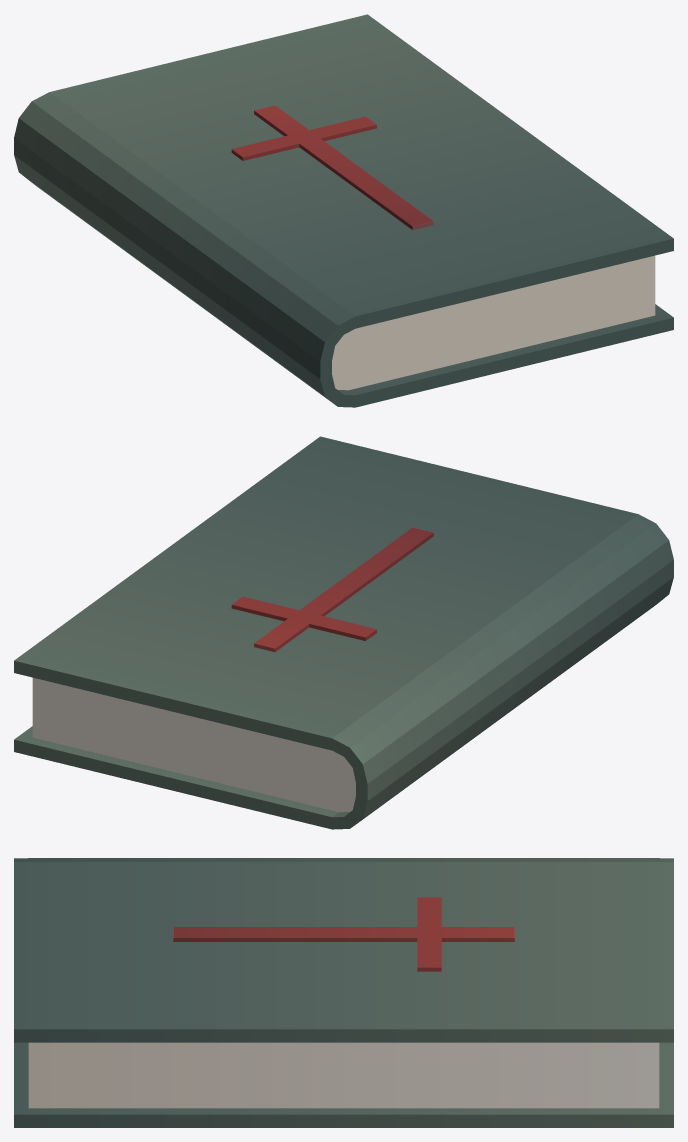
The model's file is SM_Book_01.fbx.
The picture shows the model from 3 angles, top to bottom: view 1: azimuth 30°, elevation 25°; view 2: azimuth 150°, elevation 25°; view 3: azimuth 270°, elevation 25°; orthographic projection. The views are drawn at different scales.
Visible parts, largest first — view 1: SM_Book_01; view 2: SM_Book_01; view 3: SM_Book_01.
Boxes of the visible parts, <box> form: SM_Book_01: <box>14,14,673,407</box>; SM_Book_01: <box>14,436,673,829</box>; SM_Book_01: <box>14,858,673,1127</box>.
Size of the model in its own units: 15 by 3.85 by 22.5.
